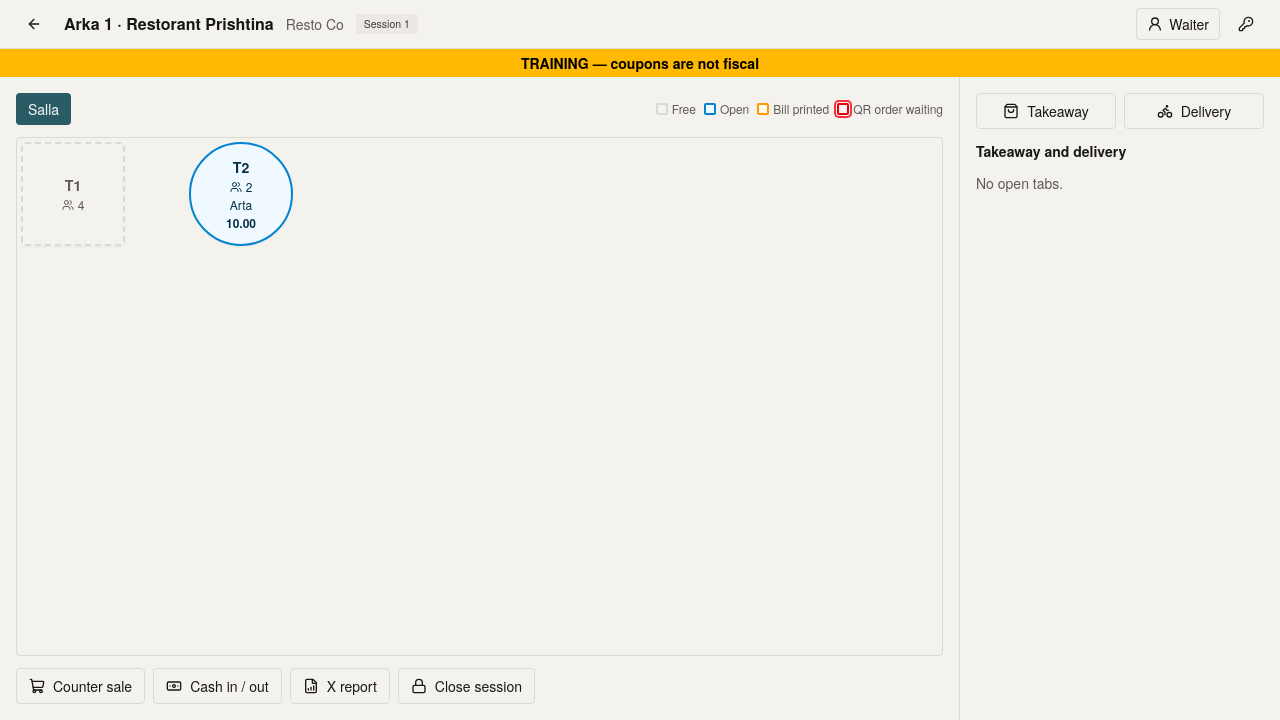
Test: Till — restaurant (P3) › opens on the floor plan, joins the store's live channel, and opens a free table with its covers
Check: the text "10.00" is shown, box x1=226 y1=215 x2=256 y2=231
Click the button with test id "floor-table" at (73, 194), box x1=21 y1=142 x2=125 y2=246
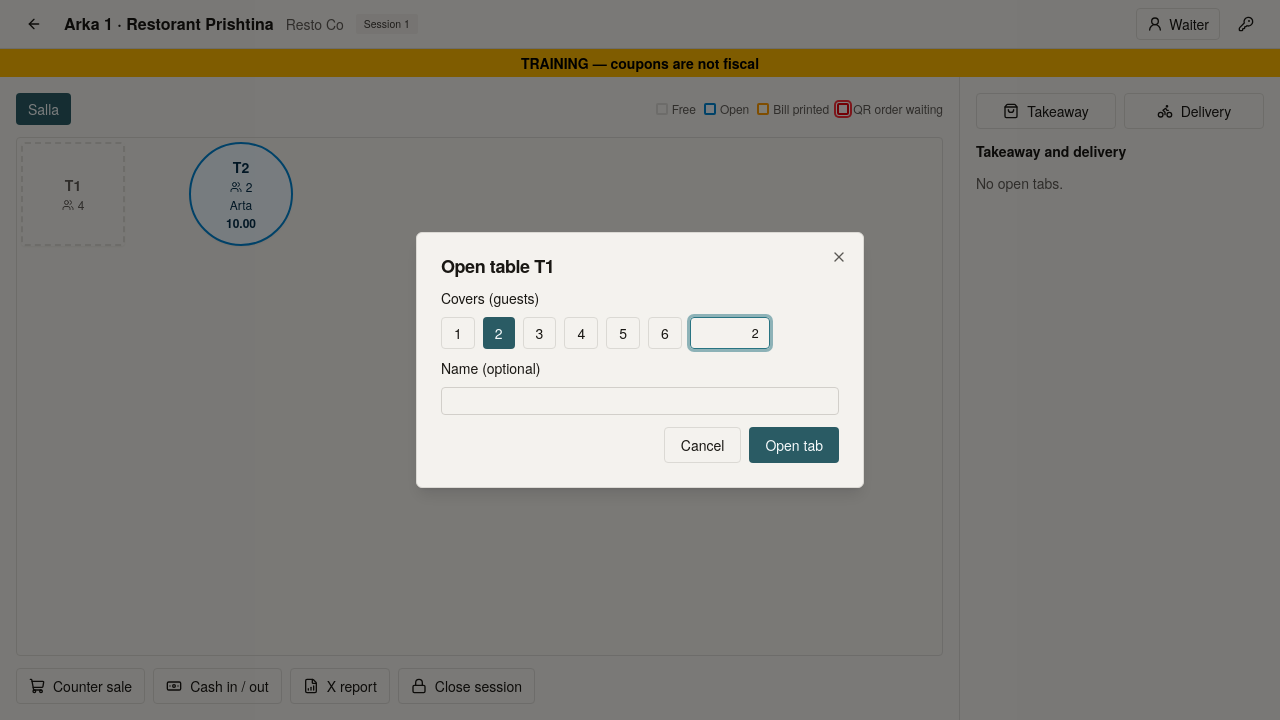
Click the button "3" at (540, 333), box x1=523 y1=317 x2=556 y2=349
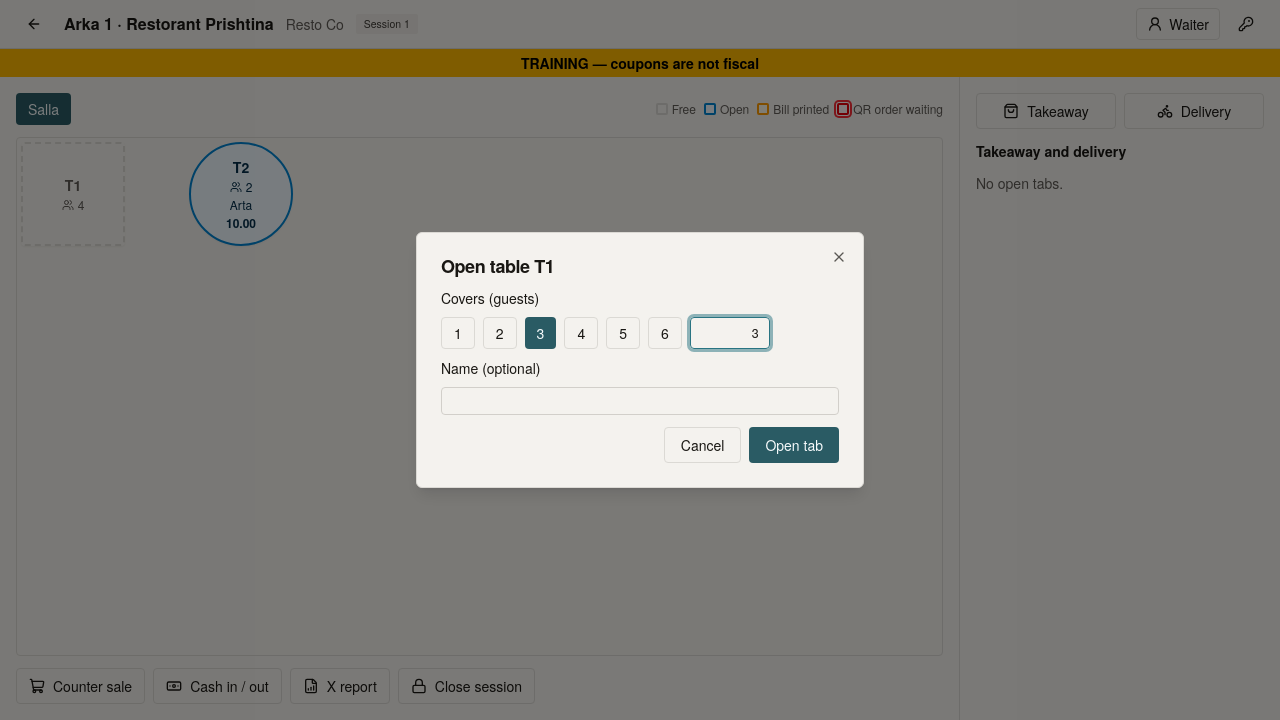
Click the button "Open tab" at (794, 445), box x1=749 y1=427 x2=839 y2=463
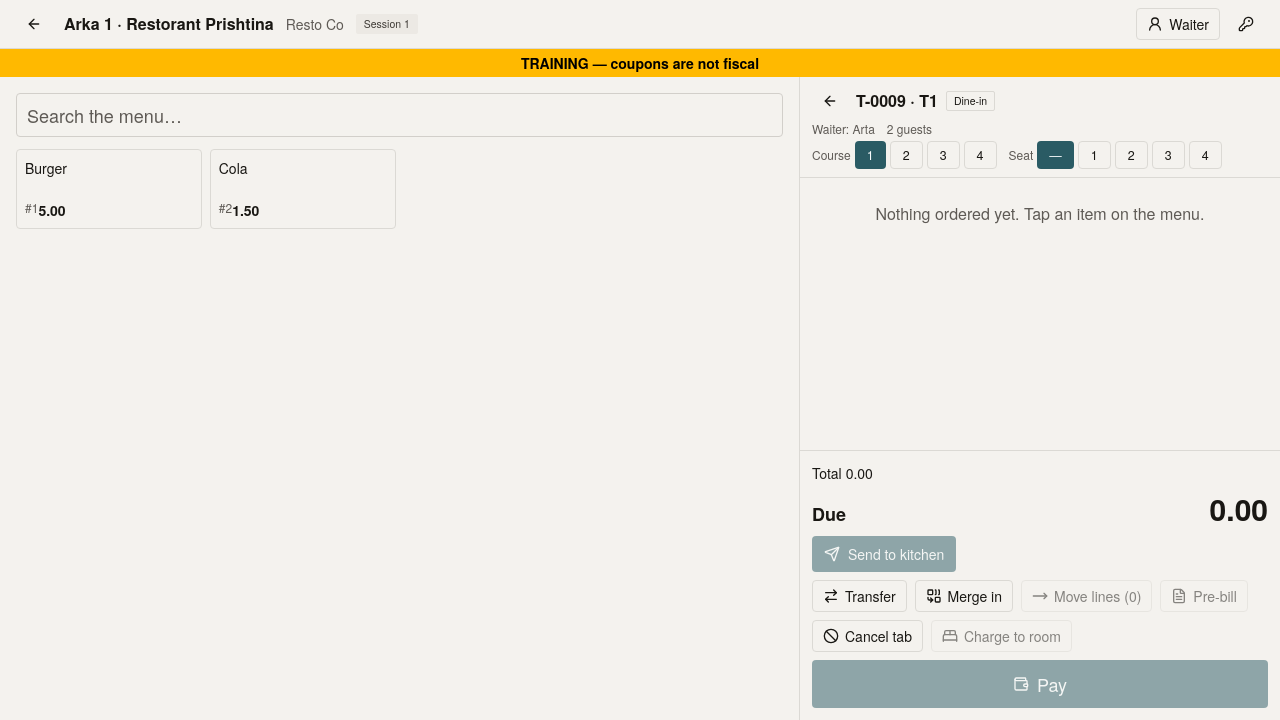
Check: the text with test id "tab-title" reads "T-0009 · T1", box x1=856 y1=89 x2=938 y2=113
Check: the text "Nothing ordered yet. Tap an item on the menu." is shown, box x1=876 y1=202 x2=1204 y2=225
